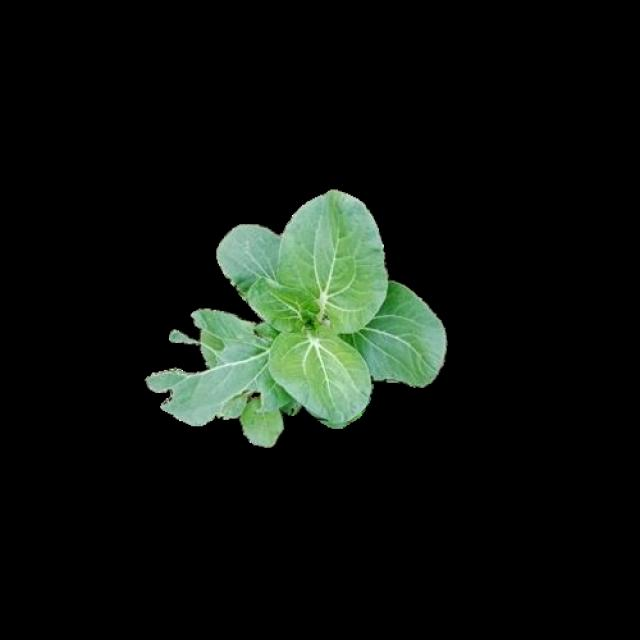not-mature: (143, 188, 447, 446)
unhealthy: (142, 307, 283, 447)
